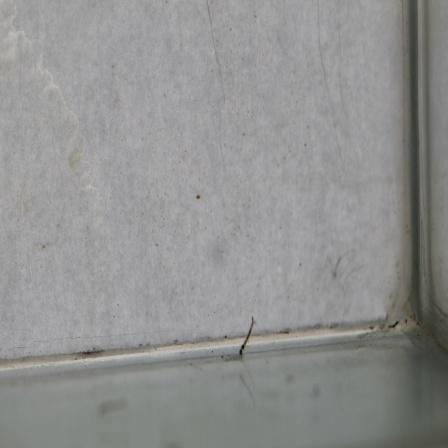Jentik-Nyamuk: (234, 313, 259, 362)
